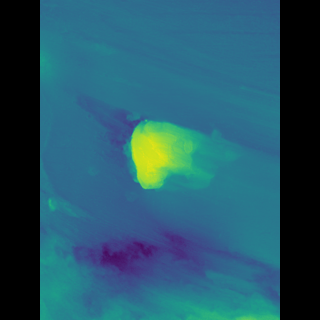Loch: (94, 93, 217, 195)
